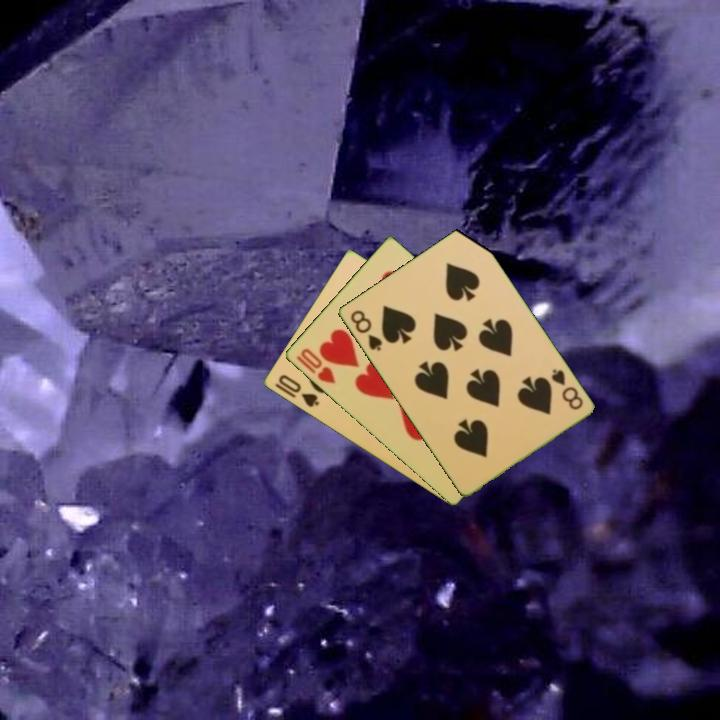10h: (292, 344, 338, 387)
10s: (274, 371, 322, 410)
8s: (346, 306, 385, 354), (547, 365, 586, 413)
